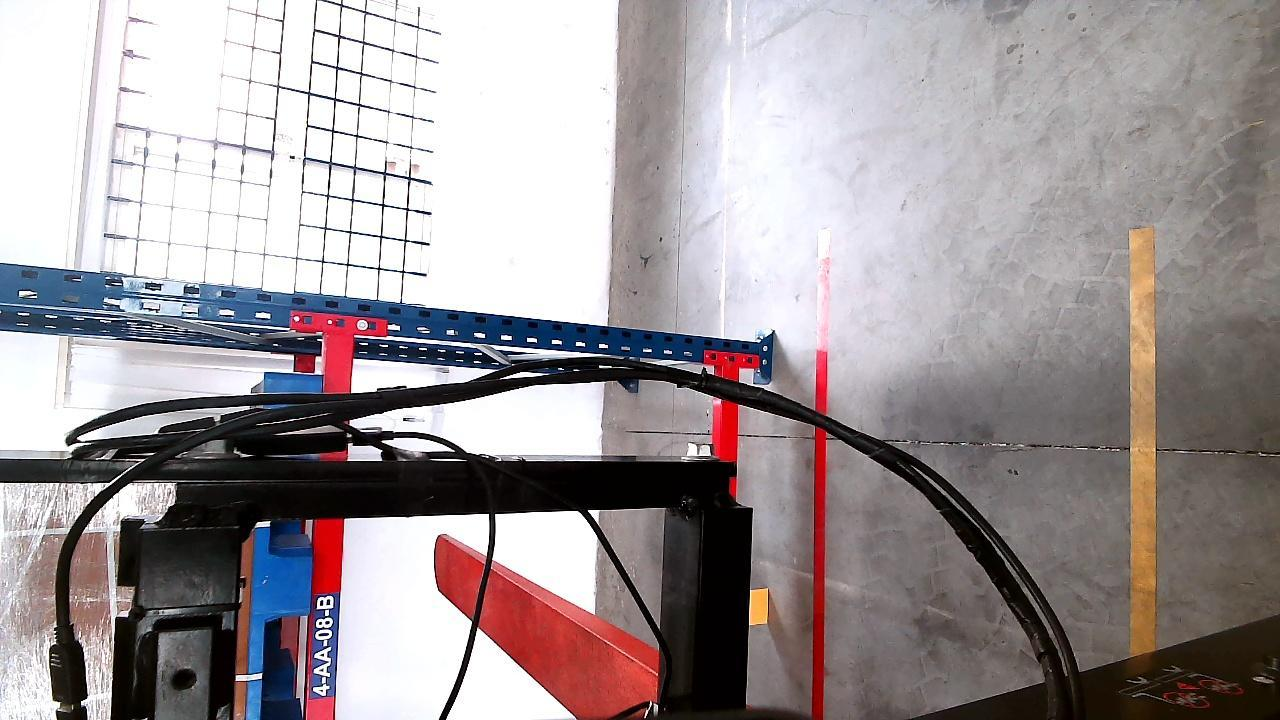red_line: (810, 229, 831, 717)
yellow_line: (1129, 224, 1161, 656)
